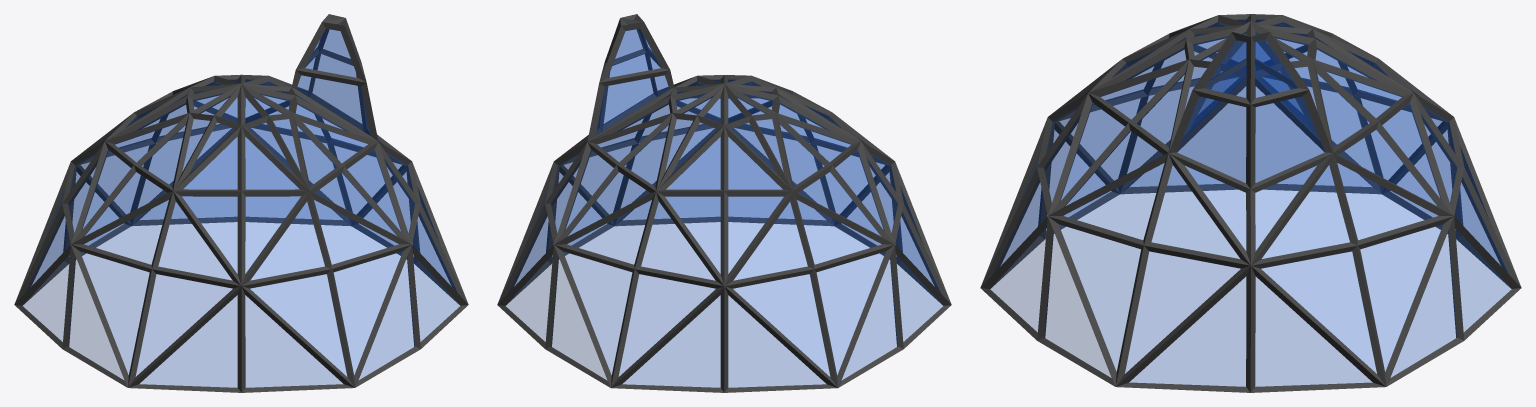
File: hosuing.obj
The picture shows the model from 3 angles, left to right: view 1: azimuth 30°, elevation 25°; view 2: azimuth 150°, elevation 25°; view 3: azimuth 270°, elevation 25°; orthographic projection. The views are drawn at different scales.
Parts seen in each view (by area): view 1: Circle.004, Circle.003; view 2: Circle.004, Circle.003; view 3: Circle.004, Circle.003.
Part boxes in pixels (left/top/right/bottom): Circle.004: left=23, top=24, right=459, bottom=387; Circle.003: left=14, top=14, right=468, bottom=392; Circle.004: left=506, top=24, right=942, bottom=387; Circle.003: left=497, top=14, right=951, bottom=392; Circle.004: left=990, top=20, right=1511, bottom=386; Circle.003: left=980, top=14, right=1521, bottom=392.
Size of the model in its own units: 7.41 by 5.24 by 8.14.
